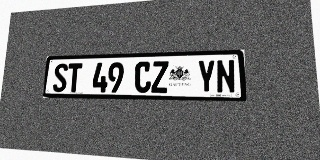4: (92, 62, 108, 92)
9: (107, 62, 124, 93)
C: (134, 61, 151, 93)
N: (216, 59, 236, 94)
S: (52, 63, 68, 92)
T: (66, 63, 82, 92)
Y: (197, 60, 216, 93)
Z: (151, 61, 168, 93)
